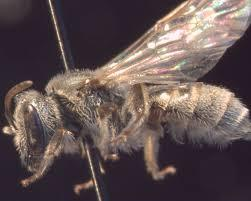Lasioglossum: (5, 0, 251, 192)
